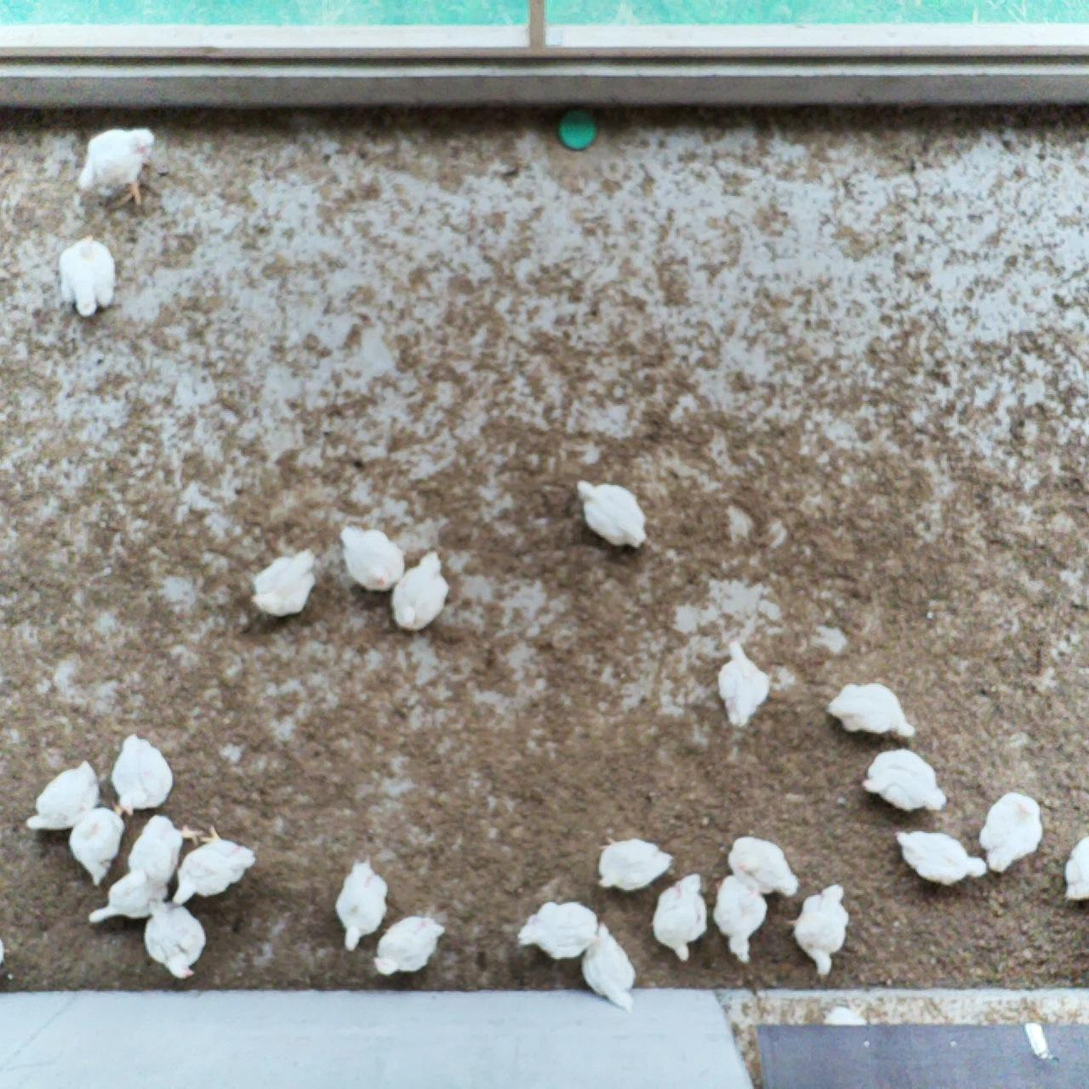chicken: (172, 824, 258, 912), (75, 123, 160, 209), (858, 746, 950, 817), (785, 882, 853, 978), (825, 678, 920, 743), (23, 757, 102, 835), (139, 895, 210, 981), (890, 827, 990, 888), (713, 637, 777, 731), (126, 814, 205, 889), (978, 788, 1045, 876), (108, 730, 175, 817), (648, 870, 710, 962), (711, 869, 771, 964), (573, 476, 649, 551), (332, 856, 390, 954), (387, 549, 453, 634), (579, 923, 639, 1016), (68, 798, 127, 889), (56, 231, 119, 316), (725, 833, 802, 902), (515, 897, 600, 959), (249, 547, 322, 619), (334, 522, 407, 594), (592, 832, 675, 893), (85, 870, 171, 927), (372, 915, 446, 978), (1062, 833, 1089, 906)
